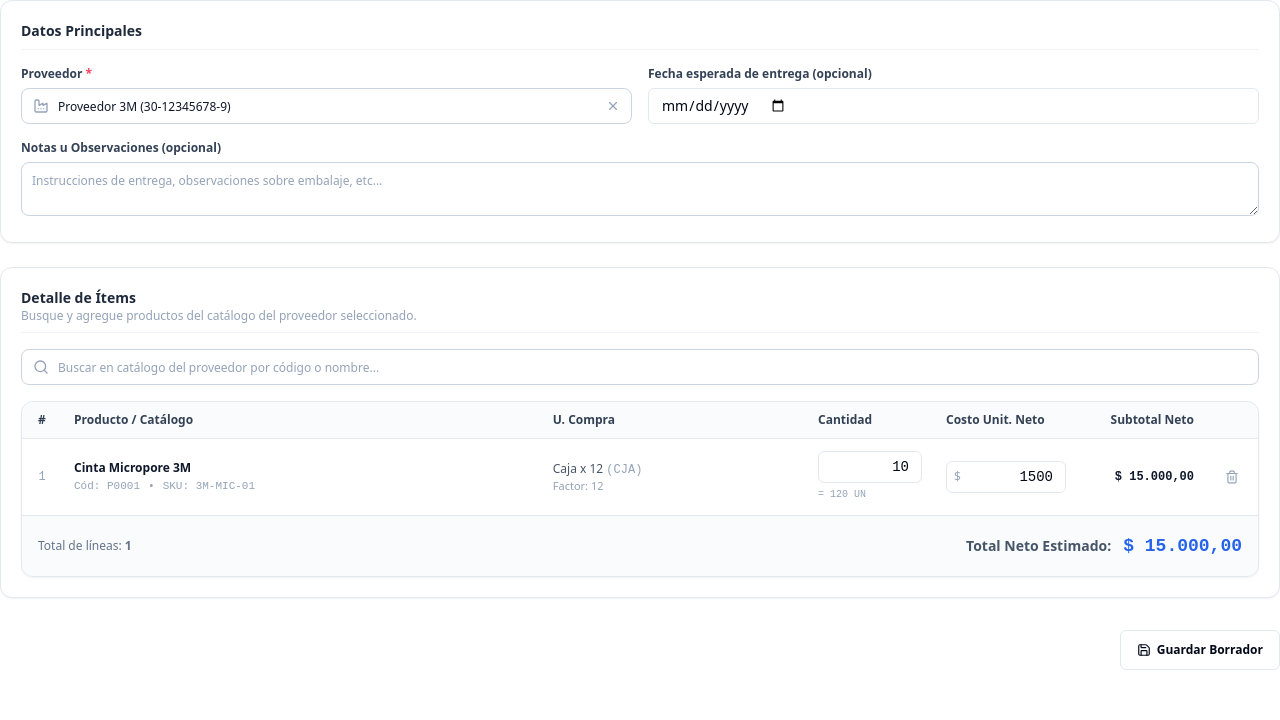
Test: PurchaseOrderForm › prompts confirmation when changing supplier with existing items
Focus the dropdown named "seleccionar proveedor". click: (326, 106)
box: [21,88,632,124]
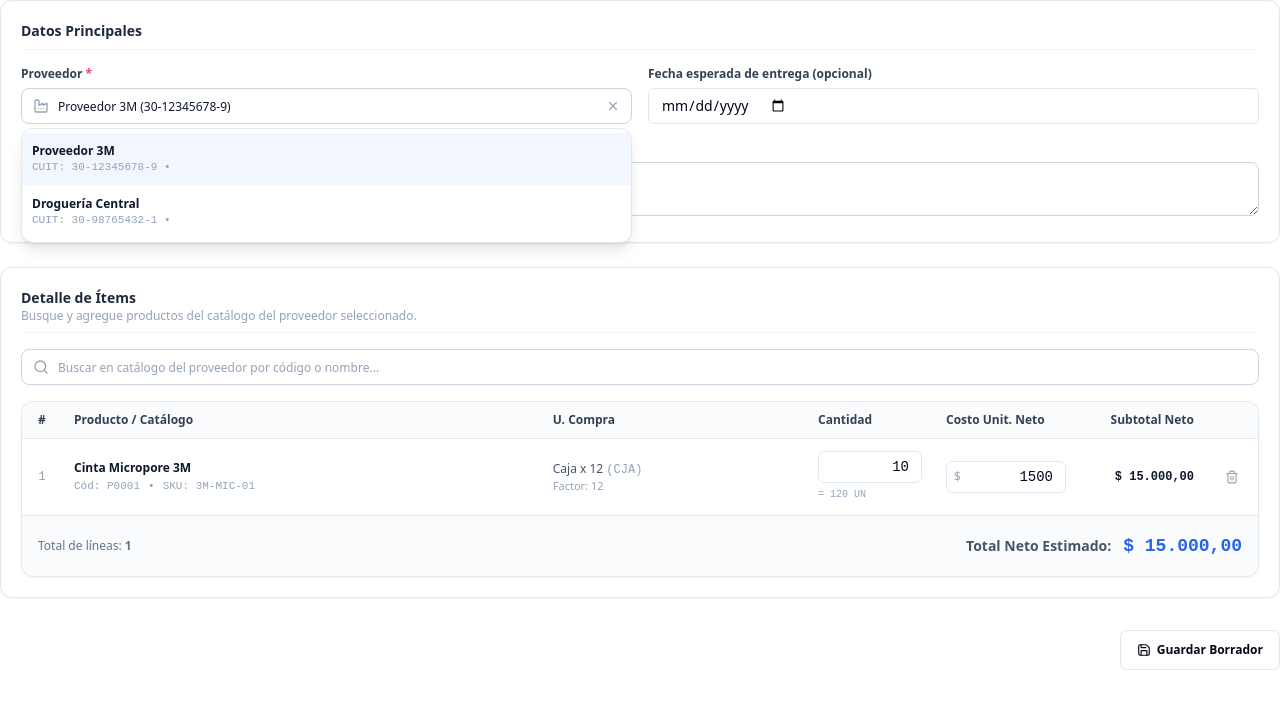
Check: the text "Droguería Central" is shown
Click the text "Droguería Central". click: (86, 204)
box: [32,195,140,212]
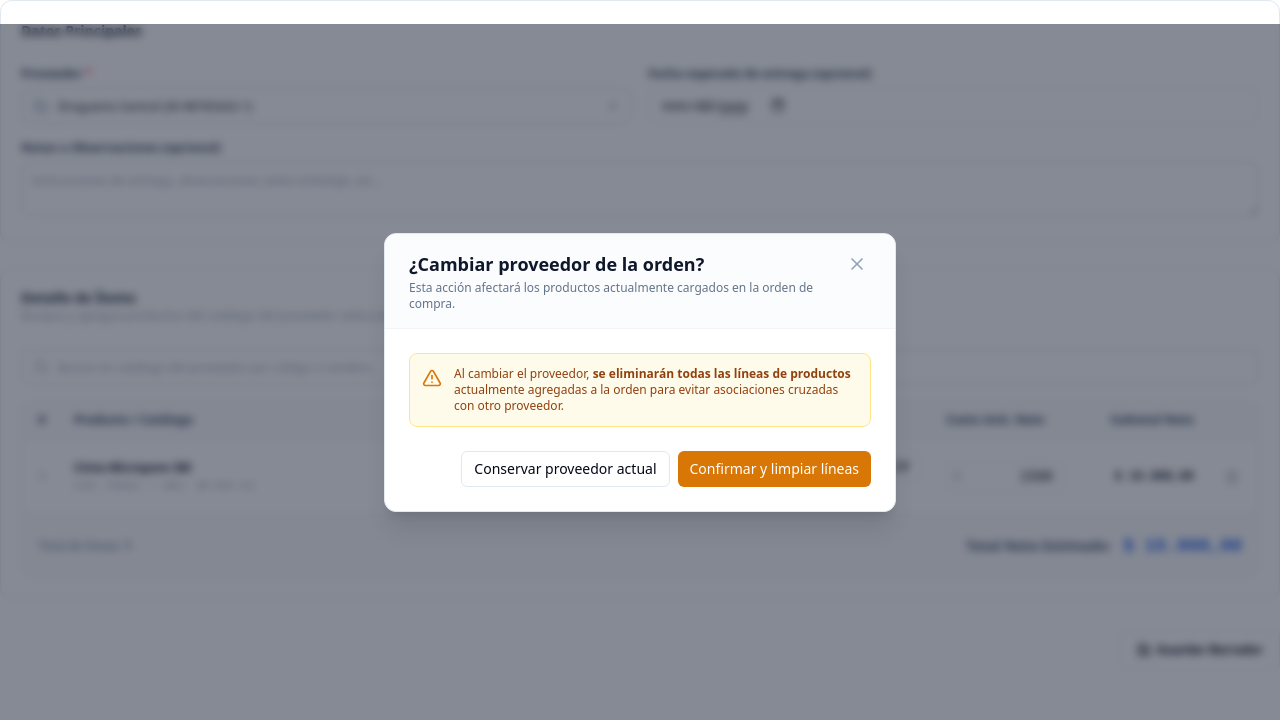
Check: the heading "¿Cambiar proveedor de la orden?" is shown, box [409,252,704,276]
Click the button "Confirmar y limpiar líneas". click: (774, 468)
box: [678,450,871,486]
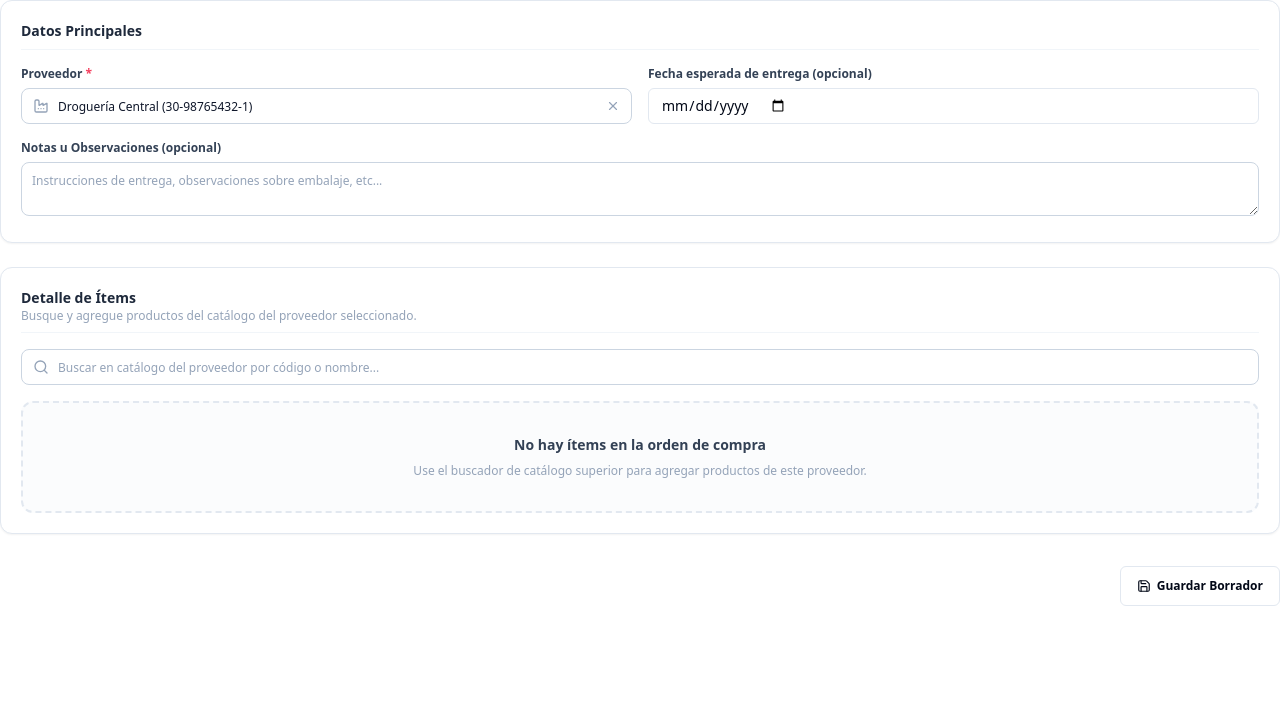
Check: the text "No hay ítems en la orden de compra" is shown, box [514,435,766,454]
